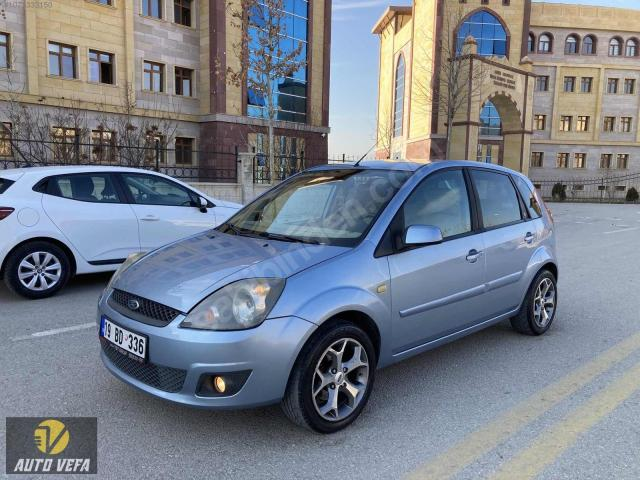plaka: (100, 318, 146, 361)
